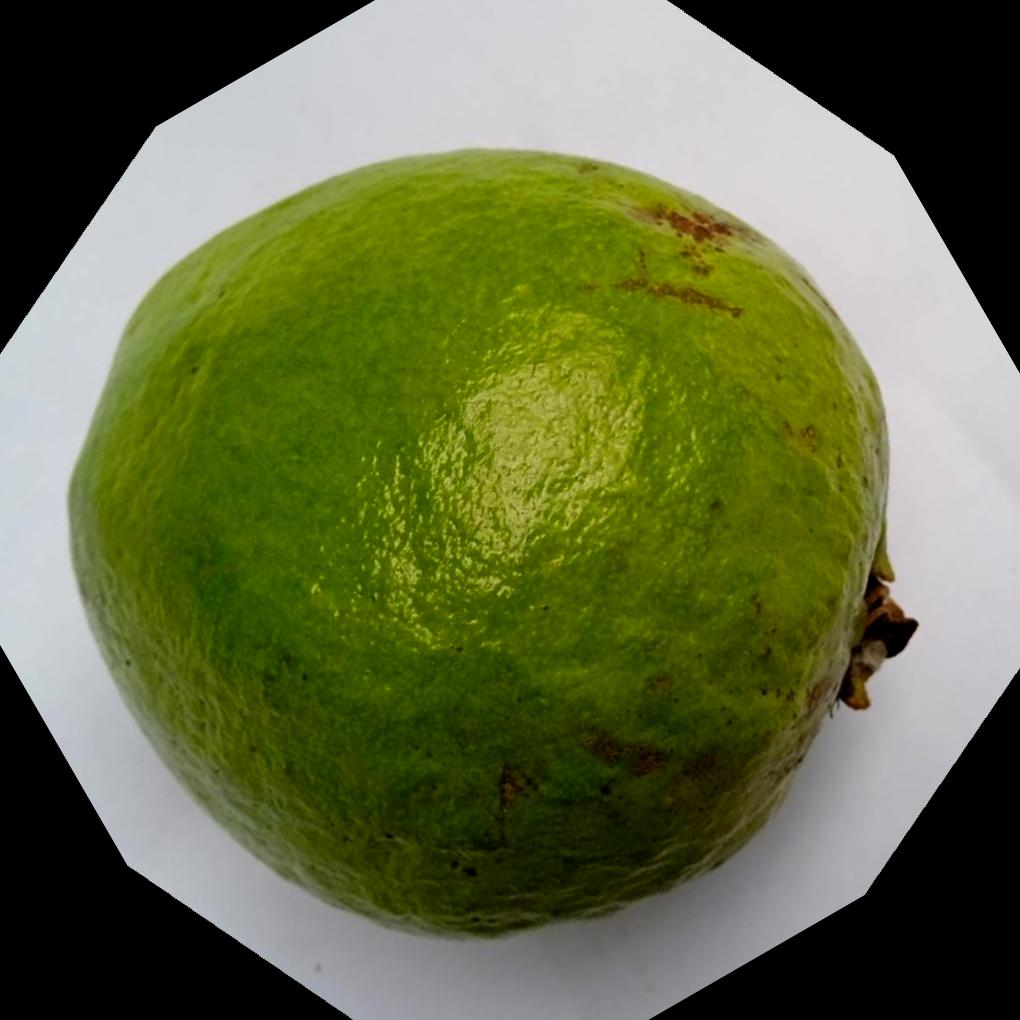FreshGuava: (60, 146, 911, 942)
